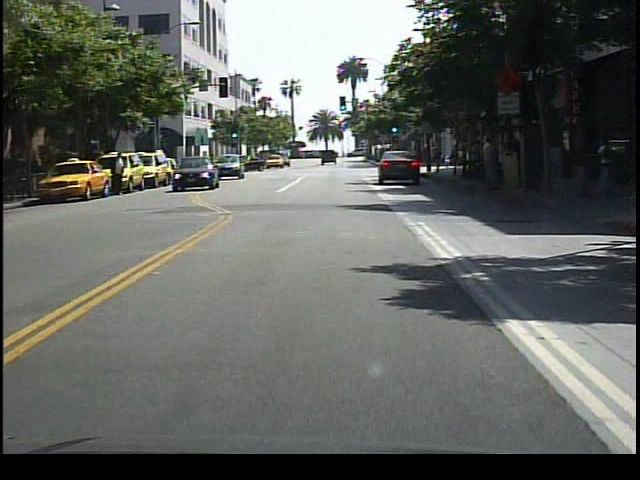person: (477, 131, 502, 197), (111, 147, 130, 198)
